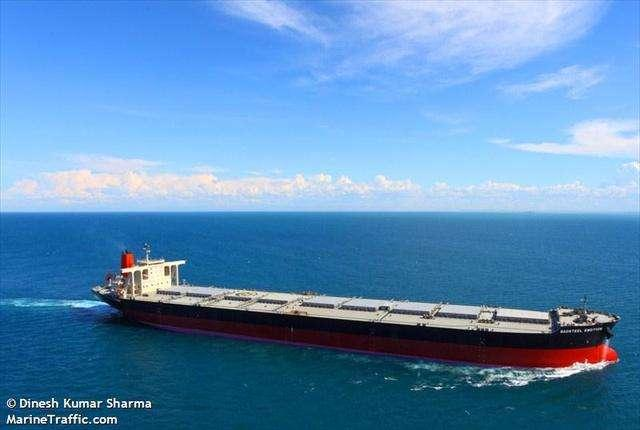Cargoship: (91, 242, 621, 369)
